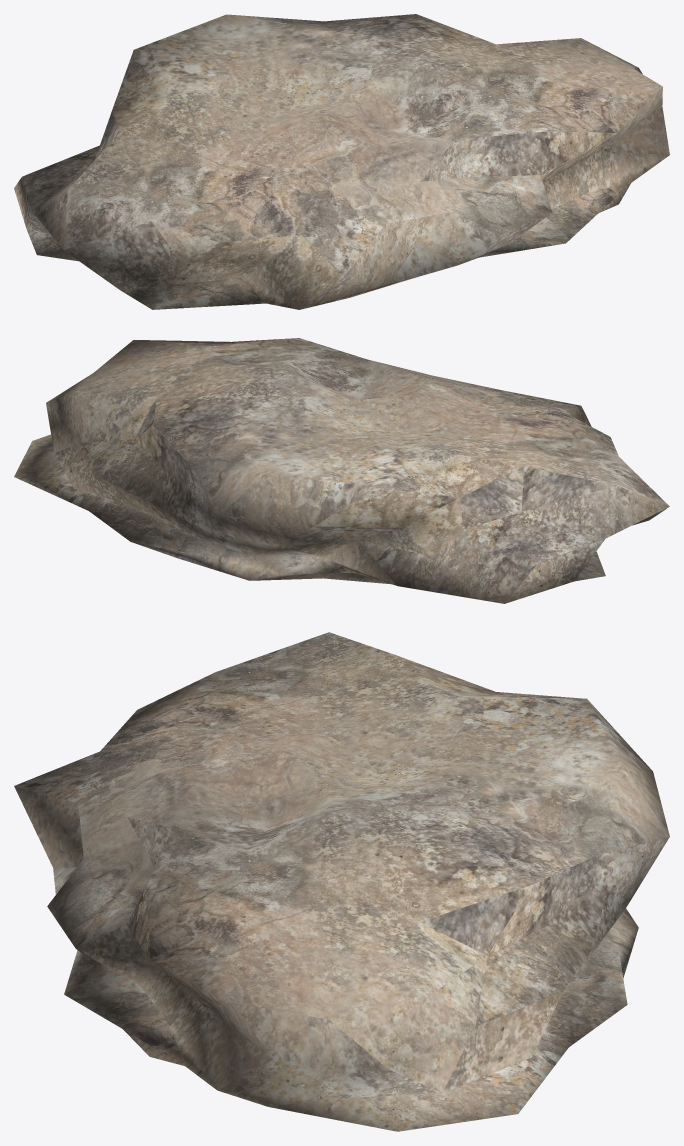
The model's file is n-rockC.glb.
The picture shows the model from 3 angles, top to bottom: view 1: azimuth 30°, elevation 25°; view 2: azimuth 150°, elevation 25°; view 3: azimuth 270°, elevation 25°; orthographic projection. The views are drawn at different scales.
Parts seen in each view (by area): view 1: rock; view 2: rock; view 3: rock.
Part boxes in pixels (x1=…): rock: x1=14, y1=14, x2=669, y2=309; rock: x1=14, y1=338, x2=669, y2=603; rock: x1=14, y1=632, x2=669, y2=1131.
Bounding box in the file's own units: 4.18 × 0.8978 × 2.81.
Materials: 1 (1 with a texture image).
